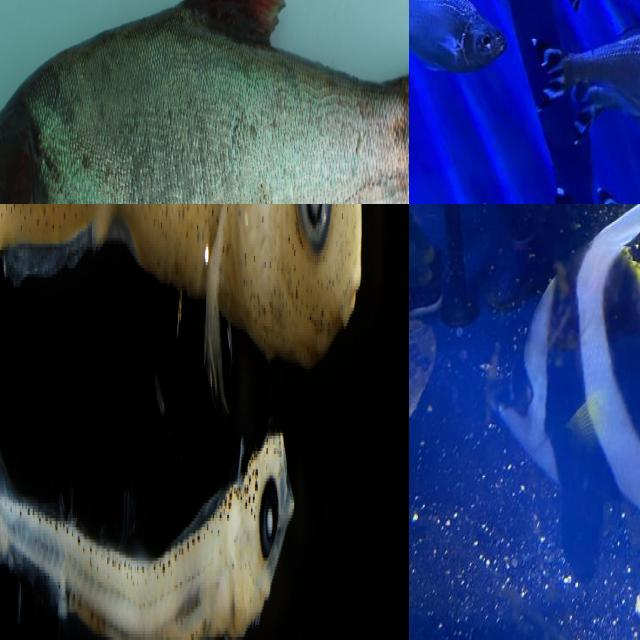fish: (0, 0, 409, 204), (0, 204, 364, 359), (494, 204, 640, 580)
